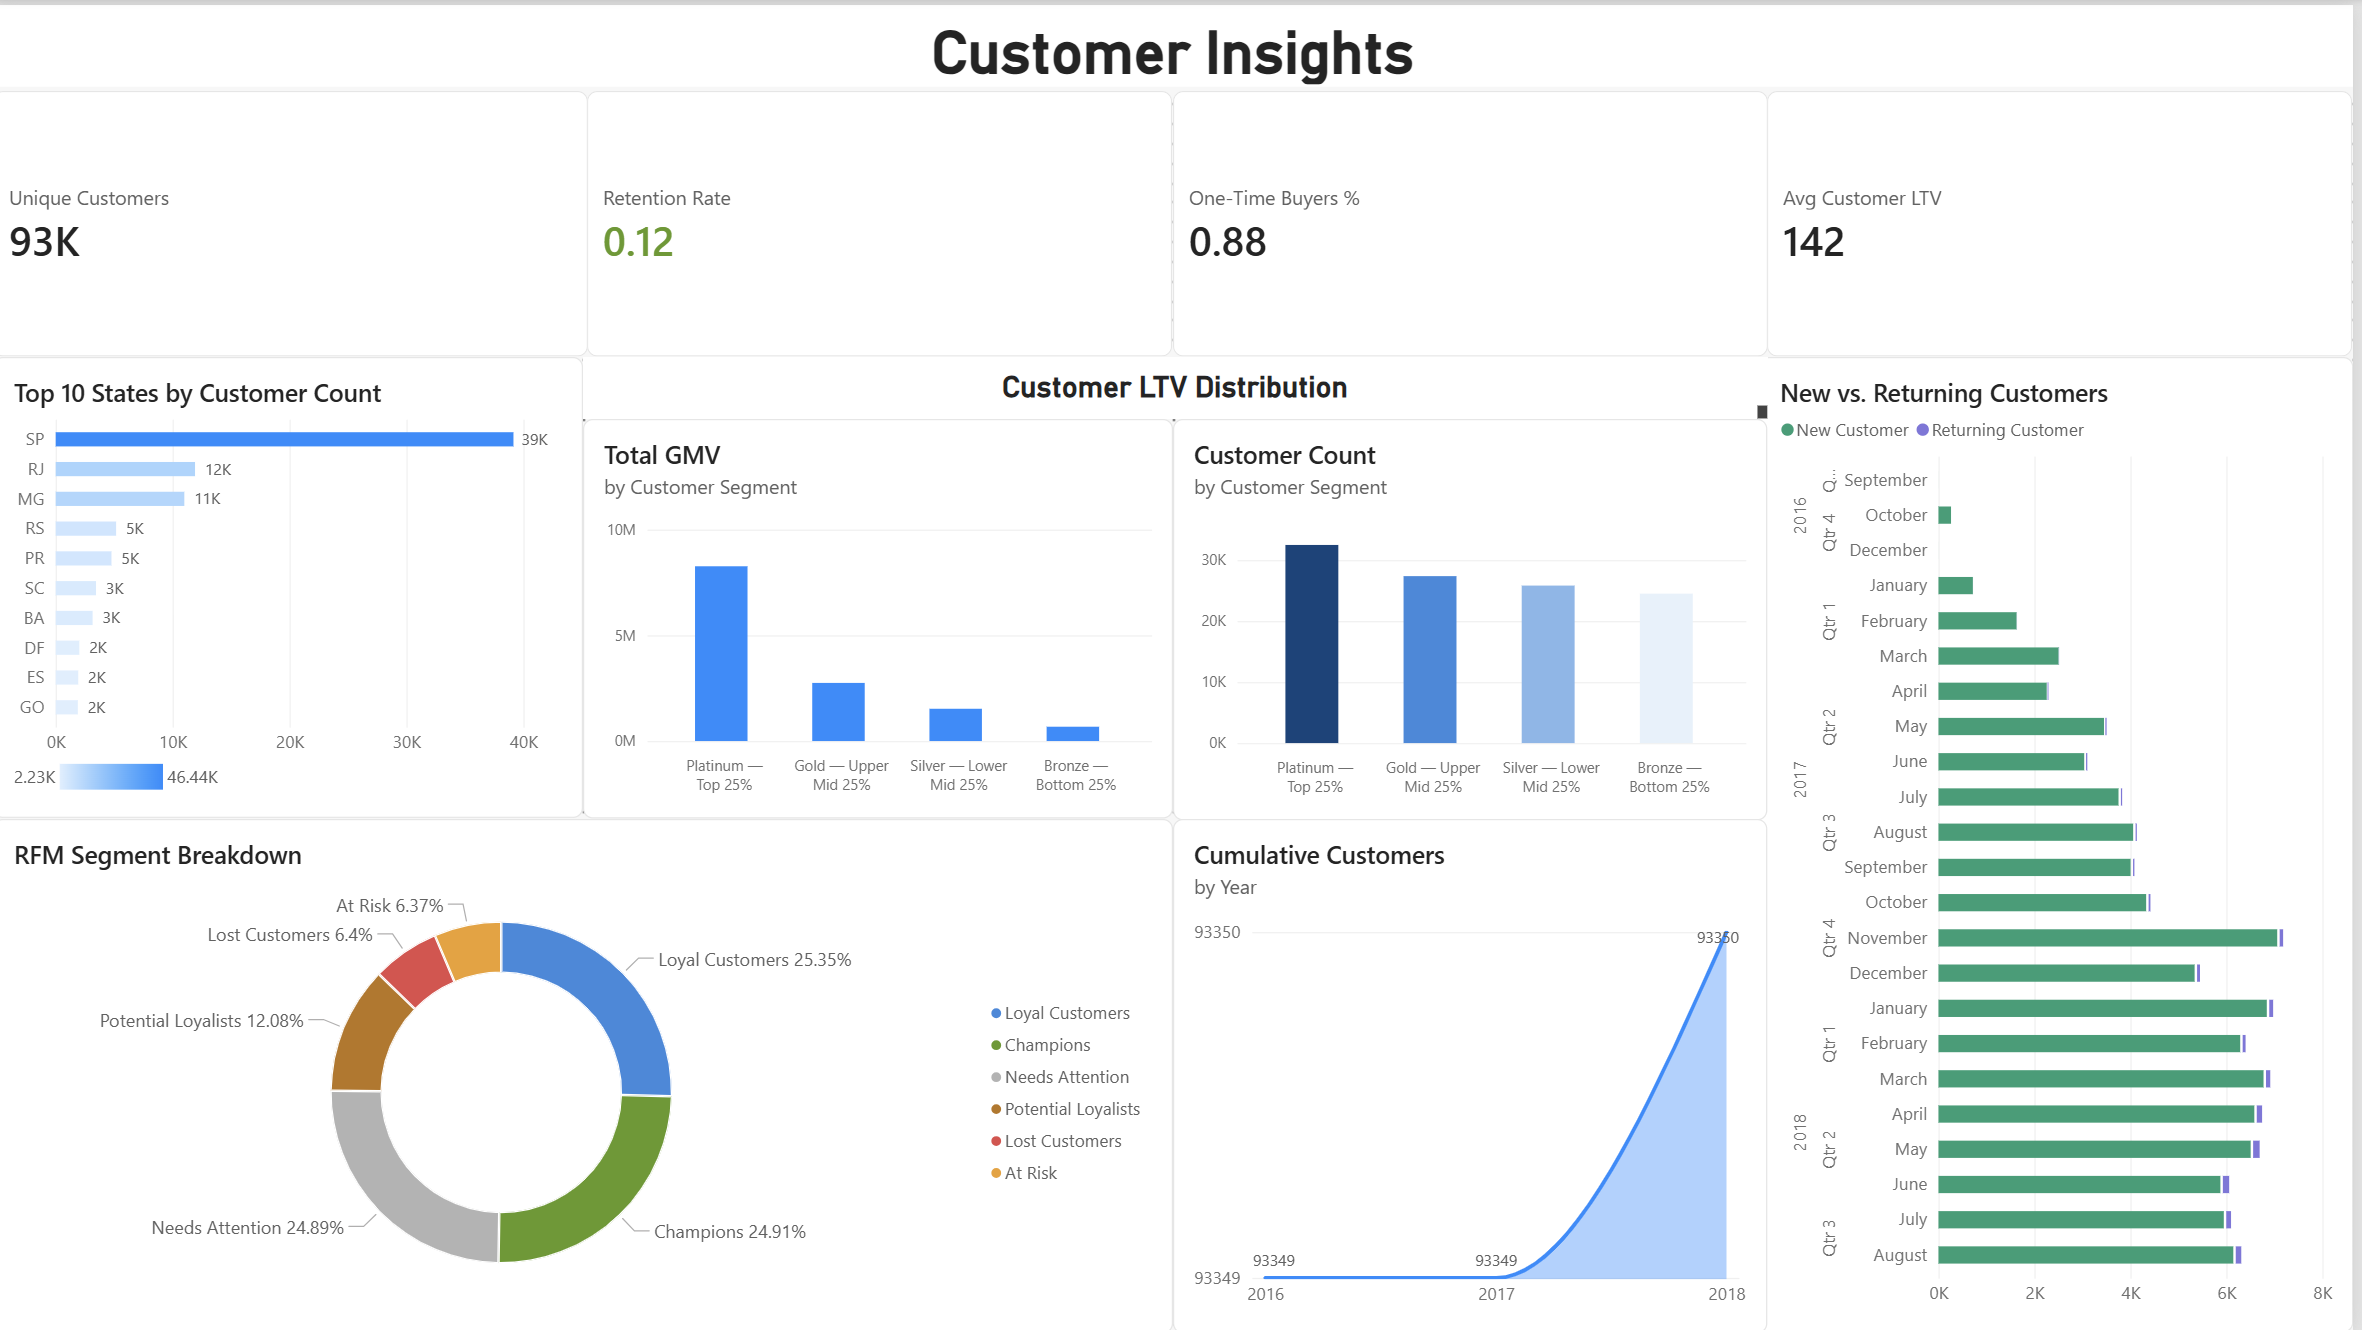

This screenshot's page, from the dashboard's own definition file:
{"tool":"powerbi","page":{"name":"Customer Insights","canvas":[1920,1080],"ordinal":2},"visuals":[{"type":"textbox","title":"Customer Insights","box":[772.6,2,466,66],"z":0},{"type":"actionButton","title":"Overview","box":[0,0.5,107.5,71.2],"z":1000,"group":"g1"},{"type":"cardVisual","fields":{"Data":["delivered_orders.Repeat Purchase Rate"]},"box":[484.4,70,475.6,107.8],"z":1000},{"type":"cardVisual","fields":{"Data":["delivered_orders.Unique Customers"]},"box":[0,70,484,108],"z":2000},{"type":"actionButton","title":"Overview","box":[110.9,0.5,103.8,71.2],"z":3000,"group":"g1"},{"type":"cardVisual","fields":{"Data":["rfm_customer_segments.Avg Customer LTV"]},"box":[1444,70,476,108],"z":3000},{"type":"cardVisual","fields":{"Data":["rfm_customer_segments.One-Time Buyers %"]},"box":[960,70,484,108],"z":4000},{"type":"actionButton","title":"Overview","box":[218.1,0.5,116.2,71.2],"z":5000,"group":"g1"},{"type":"donutChart","title":"RFM Segment Breakdown","fields":{"Category":["rfm_customer_segments.rfm_segment"],"Y":["CountNonNull(rfm_customer_segments.customer_unique_id)"]},"box":[0,631.7,960,450],"z":5000},{"type":"barChart","title":"New vs. Returning Customers","fields":{"Y":["DateTable.Unique Customers"],"Series":["delivered_orders.customer_type"],"Category":["delivered_orders.order_month_name.Variation.Date Hierarchy.Year","delivered_orders.order_month_name.Variation.Date Hierarchy.Quarter","delivered_orders.order_month_name.Variation.Date Hierarchy.Month","delivered_orders.order_month_name.Variation.Date Hierarchy.Day"]},"box":[1445,178.3,476.7,901.7],"z":6000},{"type":"actionButton","title":"Overview","box":[337.8,0.5,116.2,71.2],"z":7000,"group":"g1"},{"type":"clusteredColumnChart","fields":{"Category":["delivered_orders.customer_segment"],"Y":["CountNonNull(delivered_orders.customer_id)"]},"box":[961.7,228.3,483.3,403.3],"z":7000},{"type":"clusteredColumnChart","fields":{"Category":["delivered_orders.customer_segment"],"Y":["delivered_orders.Total GMV"]},"box":[481.7,228.3,480,403.3],"z":8000},{"type":"actionButton","title":"Overview","box":[457.5,0.5,116.2,71.2],"z":9000,"group":"g1"},{"type":"clusteredBarChart","title":"Top 10 States by Customer Count","fields":{"Category":["delivered_orders.customer_state"],"Y":["delivered_orders.Unique Customers"]},"box":[0,178.3,480,453.3],"z":9000},{"type":"areaChart","fields":{"Y":["delivered_orders.Cumulative Customers"],"Category":["DateTable.Date.Variation.Date Hierarchy.Year"]},"box":[960,631.7,483.3,448.3],"z":10000},{"type":"textbox","title":"Customer LTV Distribution","box":[483.3,178.3,961.7,50],"z":11000},{"type":"slicer","fields":{"Values":["delivered_orders.order_approved_at.Variation.Date Hierarchy.Quarter"]},"box":[1443.3,0,478.3,68.3],"z":12000},{"type":"group","id":"g1","title":"Group 1","box":[0,0.5,573.8,71.2],"z":13000}]}

Visuals, with their boxes in screenshot pixels (x1, y1, x2, y2), scaled from the page's 1920x1080 canvas onto the 2362x1330 screenshot:
"Customer Insights" textbox: 950/2/1524/84
"Overview" actionButton: 0/1/132/88
cardVisual - delivered_orders.Repeat Purchase Rate: 596/86/1181/219
cardVisual - delivered_orders.Unique Customers: 0/86/595/219
"Overview" actionButton: 136/1/264/88
cardVisual - rfm_customer_segments.Avg Customer LTV: 1776/86/2361/219
cardVisual - rfm_customer_segments.One-Time Buyers %: 1181/86/1776/219
"Overview" actionButton: 268/1/411/88
"RFM Segment Breakdown" donutChart: 0/778/1181/1329
"New vs. Returning Customers" barChart: 1778/220/2361/1329
"Overview" actionButton: 416/1/559/88
clusteredColumnChart - delivered_orders.customer_segment x CountNonNull(delivered_orders.customer_id): 1183/281/1778/778
clusteredColumnChart - delivered_orders.customer_segment x delivered_orders.Total GMV: 593/281/1183/778
"Overview" actionButton: 563/1/706/88
"Top 10 States by Customer Count" clusteredBarChart: 0/220/590/778
areaChart - delivered_orders.Cumulative Customers x DateTable.Date.Variation.Date Hierarchy.Year: 1181/778/1776/1329
"Customer LTV Distribution" textbox: 595/220/1778/281
slicer - delivered_orders.order_approved_at.Variation.Date Hierarchy.Quarter: 1776/0/2361/84
"Group 1" group: 0/1/706/88
